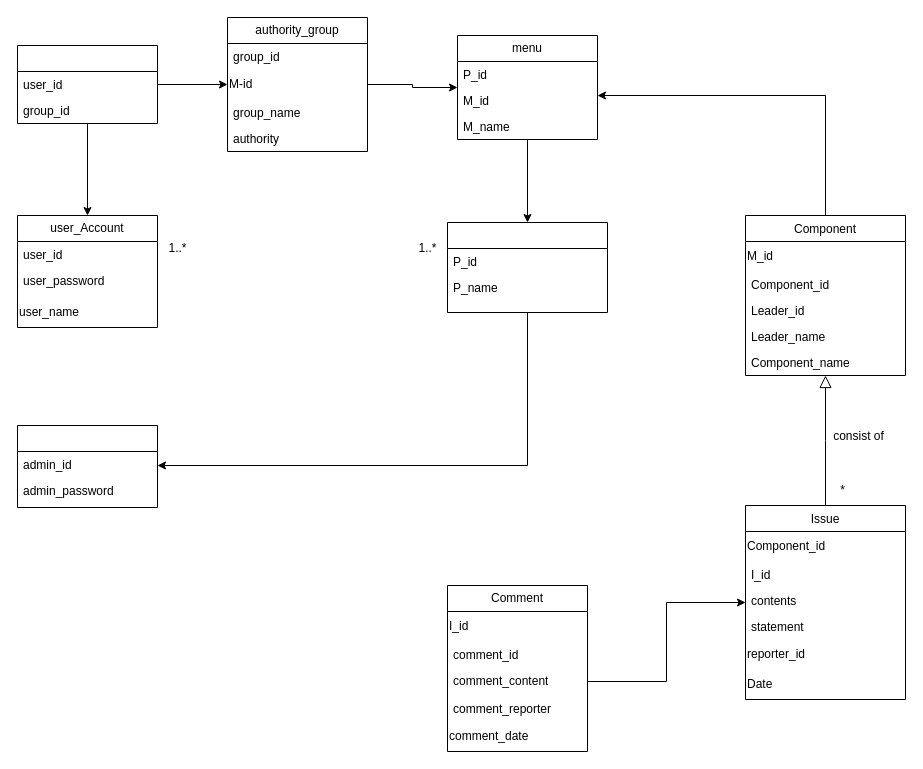
The diagram is 923 pixels wide and 769 high, and some of its shapes have lost their labels. The box of each missing label's shape, as (x1, y1, x2, y2) in pixels:
account_authority: (16, 44, 158, 124)
admin_Account: (16, 424, 158, 508)
Project: (446, 222, 608, 312)
